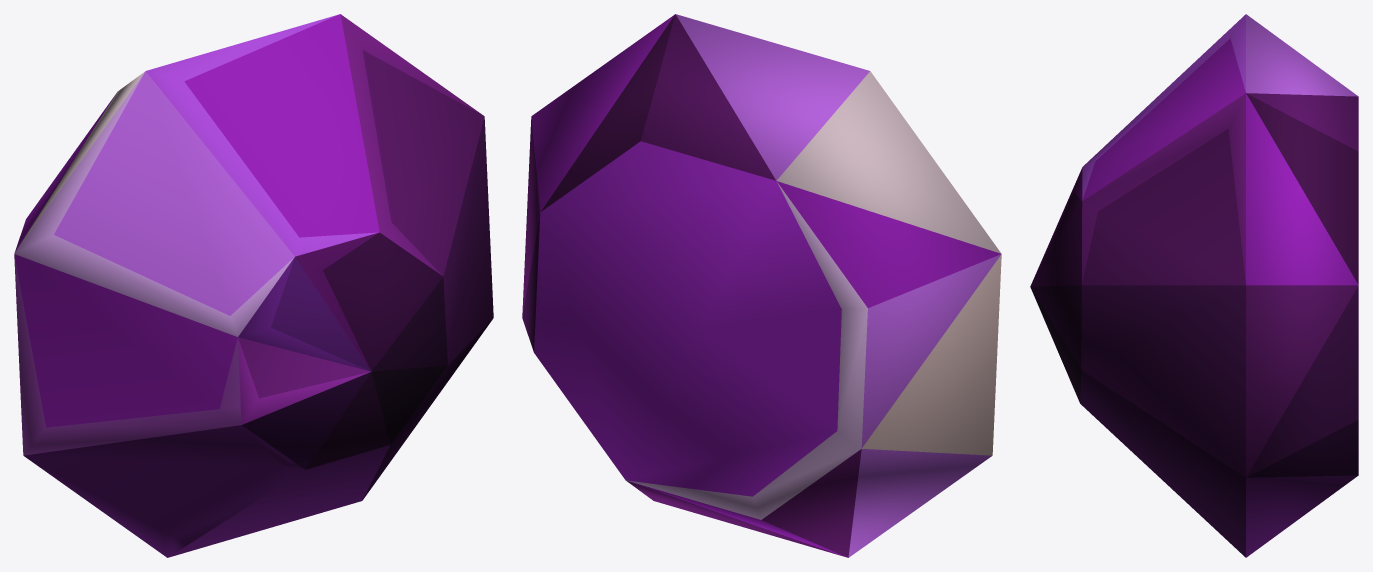
Rendered from PenglantianCrystalPurple.fbx.
The picture shows the model from 3 angles, left to right: view 1: azimuth 30°, elevation 25°; view 2: azimuth 150°, elevation 25°; view 3: azimuth 270°, elevation 25°; orthographic projection. The views are drawn at different scales.
Parts seen in each view (by area): view 1: PenglantianCrystalPurple; view 2: PenglantianCrystalPurple; view 3: PenglantianCrystalPurple.
Boxes of the visible parts, bbox=[...] form: PenglantianCrystalPurple: bbox=[14, 14, 493, 557]; PenglantianCrystalPurple: bbox=[522, 14, 1001, 557]; PenglantianCrystalPurple: bbox=[1030, 14, 1358, 557].
Bounding box in the file's own units: 245 × 245 × 157.
